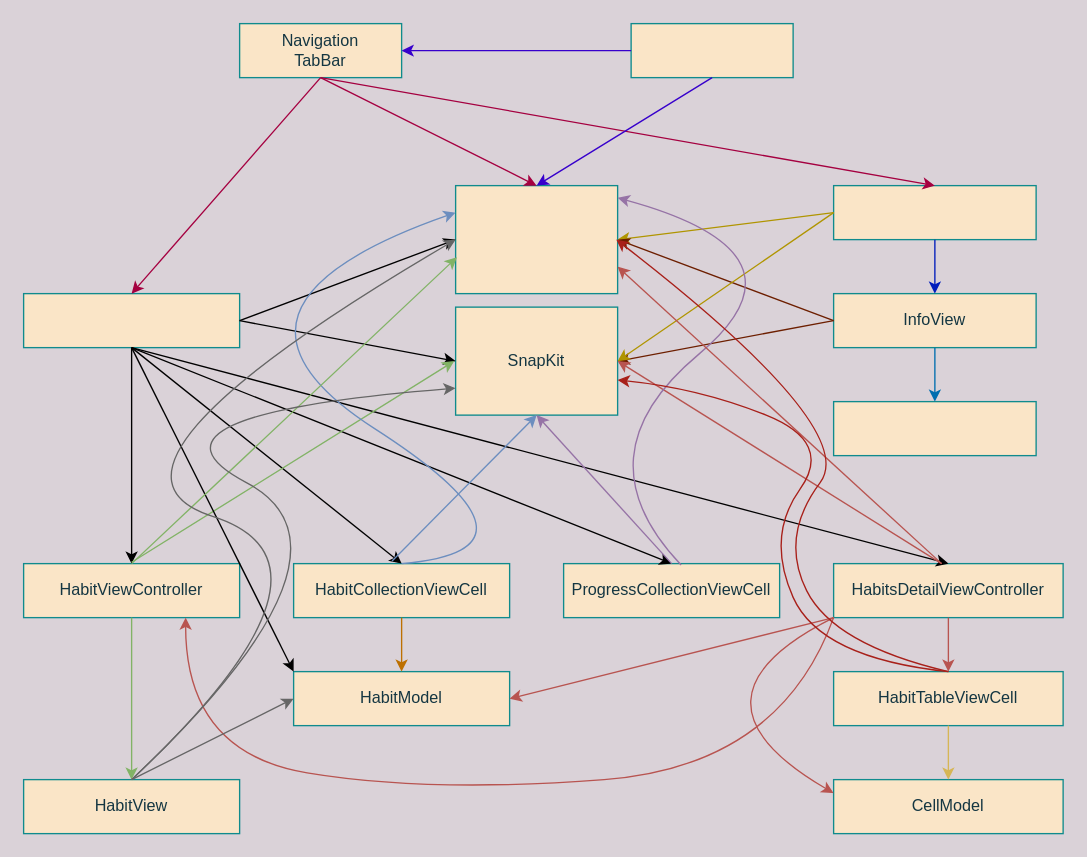
The diagram is 1087 pixels wide and 857 high, and some of its shapes have lost their labels. Each missing label, with the centre of its shape:
"AppDelegate" goes at (x=711, y=50).
"HabitsViewController" goes at (x=131, y=320).
"InfoModel" goes at (x=934, y=428).
"InfoViewController" goes at (x=934, y=212).
"UIKit" goes at (x=536, y=239).
